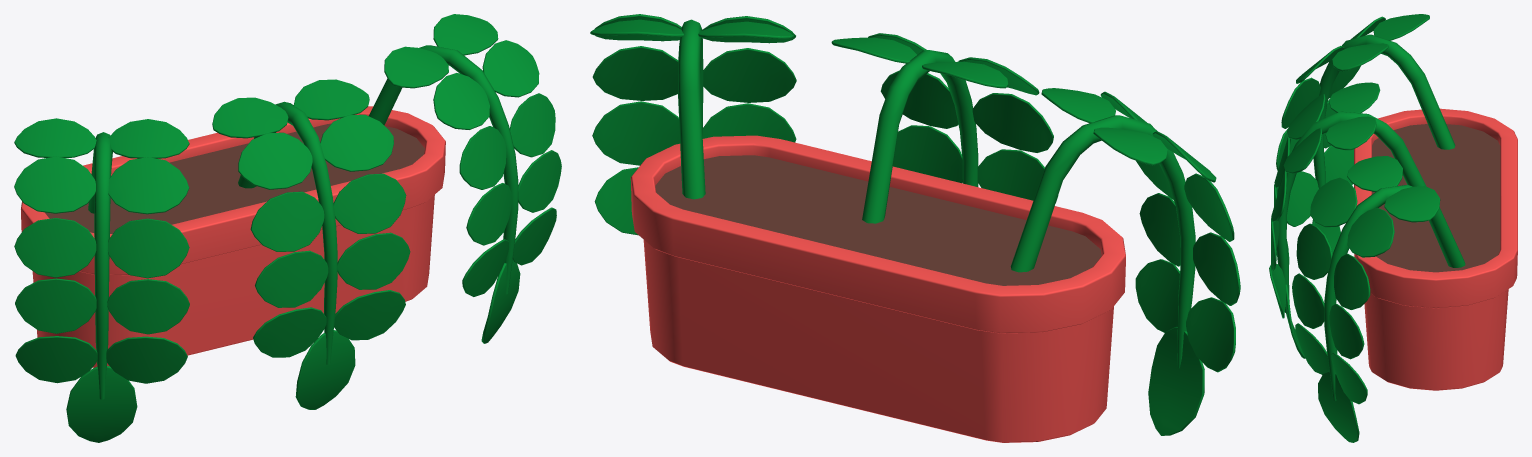
The model's file is Town_3_Plant_1.glb.
The picture shows the model from 3 angles, left to right: view 1: azimuth 30°, elevation 25°; view 2: azimuth 150°, elevation 25°; view 3: azimuth 270°, elevation 25°; orthographic projection. The views are drawn at different scales.
Visible parts, largest first — view 1: Town_3_Plant_1; view 2: Town_3_Plant_1; view 3: Town_3_Plant_1.
Boxes of the visible parts, x1,y1,x2,y2 form: Town_3_Plant_1: [14, 14, 561, 442]; Town_3_Plant_1: [590, 14, 1240, 442]; Town_3_Plant_1: [1269, 14, 1517, 442].
Bounding box in the file's own units: 1.67 × 0.8368 × 0.7438.
Materials: 1 (1 with a texture image).
